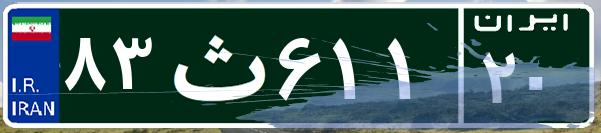0: (525, 38, 570, 115)
1: (385, 28, 445, 110), (330, 28, 385, 110)
2: (475, 38, 525, 113)
3: (110, 28, 158, 105)
6: (273, 28, 330, 110)
8: (57, 26, 110, 107)
ث: (158, 15, 273, 115)
